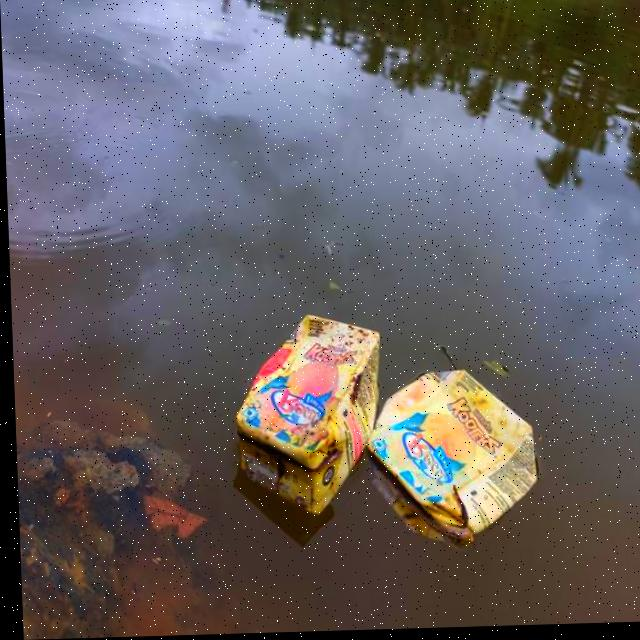paper: (361, 342, 540, 561), (229, 315, 396, 514)
